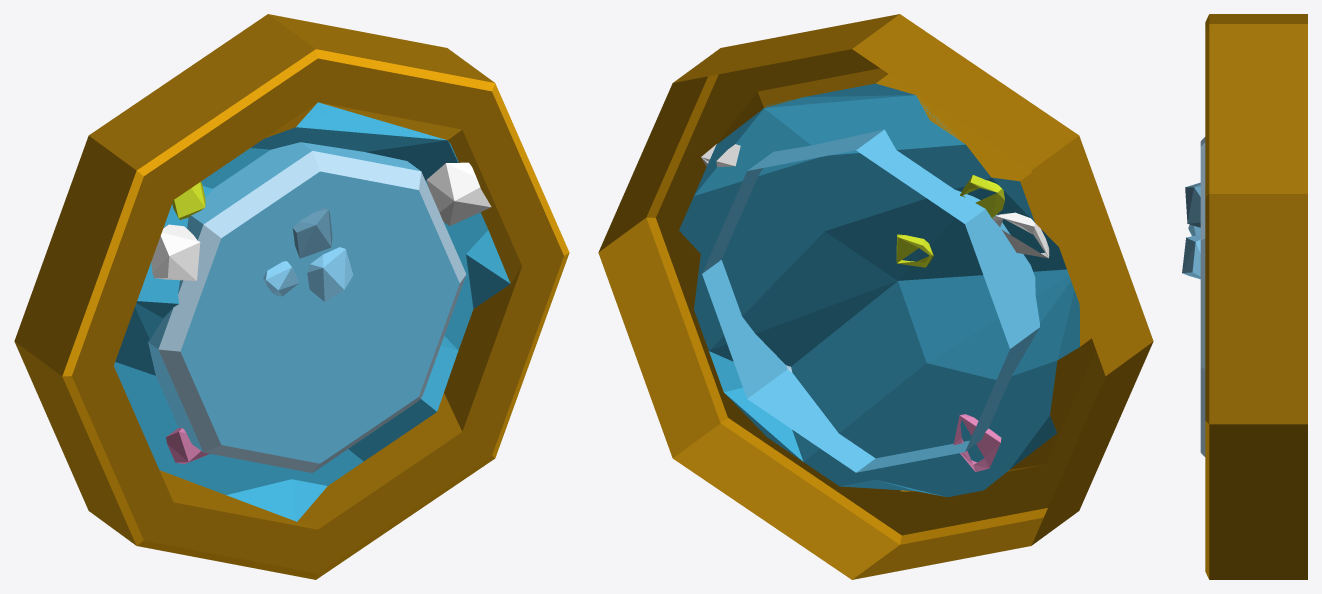
Rendered from EA_AD_RotatingBase_01a.glb.
3 renders of one model, left to right at view 1: azimuth 30°, elevation 25°; view 2: azimuth 150°, elevation 25°; view 3: azimuth 270°, elevation 25°, orthographic. The views are drawn at different scales.
Parts seen in each view (by area): view 1: EA_AD_RotatingBase_01a, EA_AD_RotatingBase_btn.001, EA_AD_RotatingBase_btn; view 2: EA_AD_RotatingBase_01a, EA_AD_RotatingBase_btn.001; view 3: EA_AD_RotatingBase_01a, EA_AD_RotatingBase_btn.001.
Part boxes in pixels (x1,y1,x2,y2): EA_AD_RotatingBase_01a: [14, 14, 569, 579]; EA_AD_RotatingBase_btn.001: [148, 142, 466, 472]; EA_AD_RotatingBase_btn: [180, 171, 459, 463]; EA_AD_RotatingBase_01a: [598, 14, 1153, 579]; EA_AD_RotatingBase_btn.001: [702, 129, 1039, 472]; EA_AD_RotatingBase_01a: [1205, 14, 1307, 579]; EA_AD_RotatingBase_btn.001: [1182, 137, 1205, 456].
Size of the model in its own units: 1.09 by 1.09 by 0.2285.
1 material, 1 textured.
